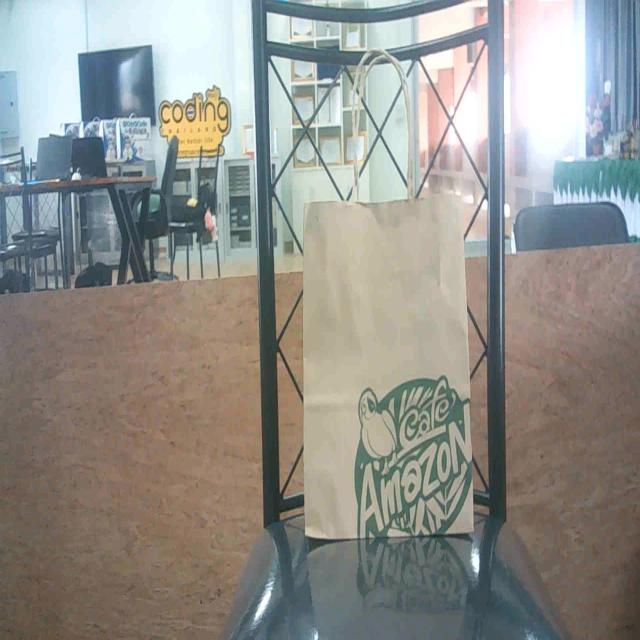bag: (300, 198, 477, 538)
